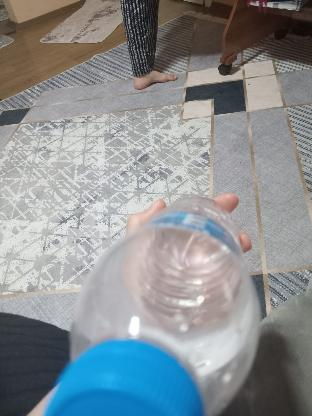Plastic Bottle: (42, 202, 278, 416)
